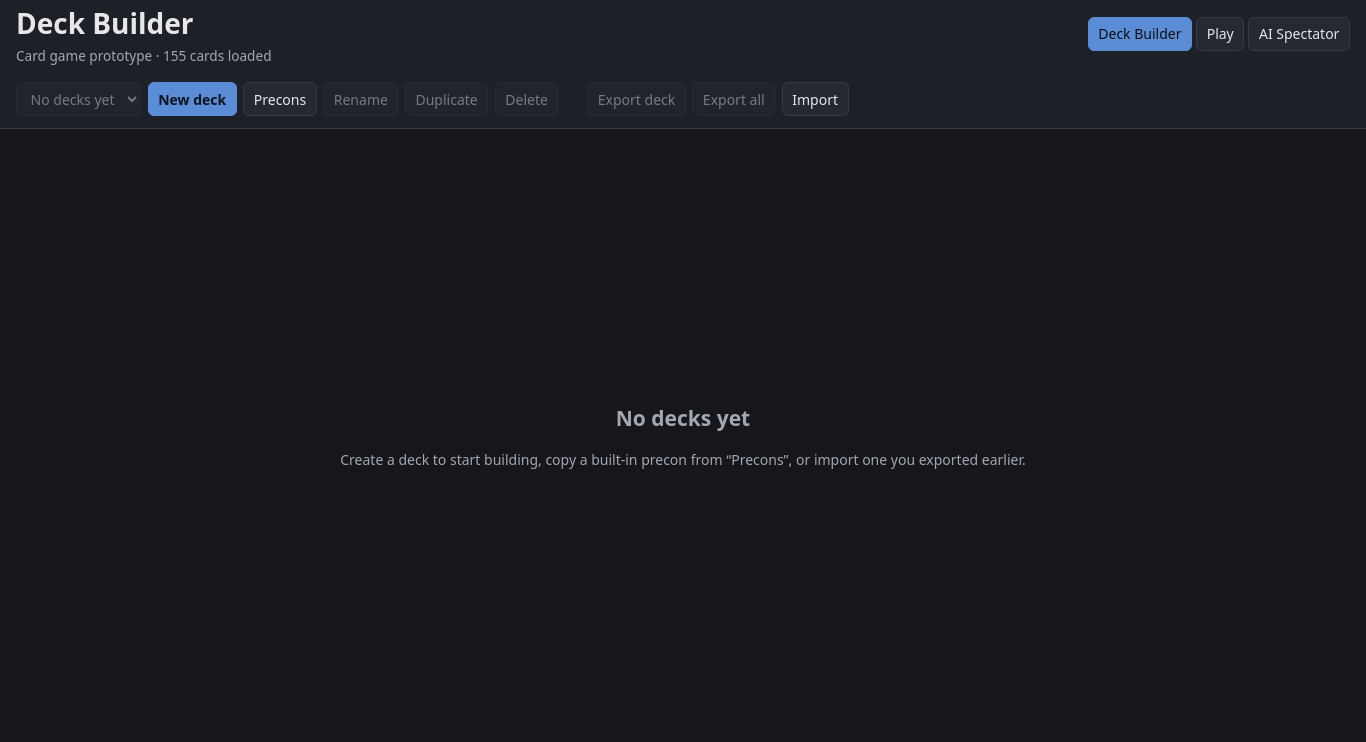
Test: the provenance of a deck the server built › says nothing until the server sends it
This screenshot has width=1366, height=742.
Click the button "Play" at point(1220, 34), box 1196,17 -> 1244,51
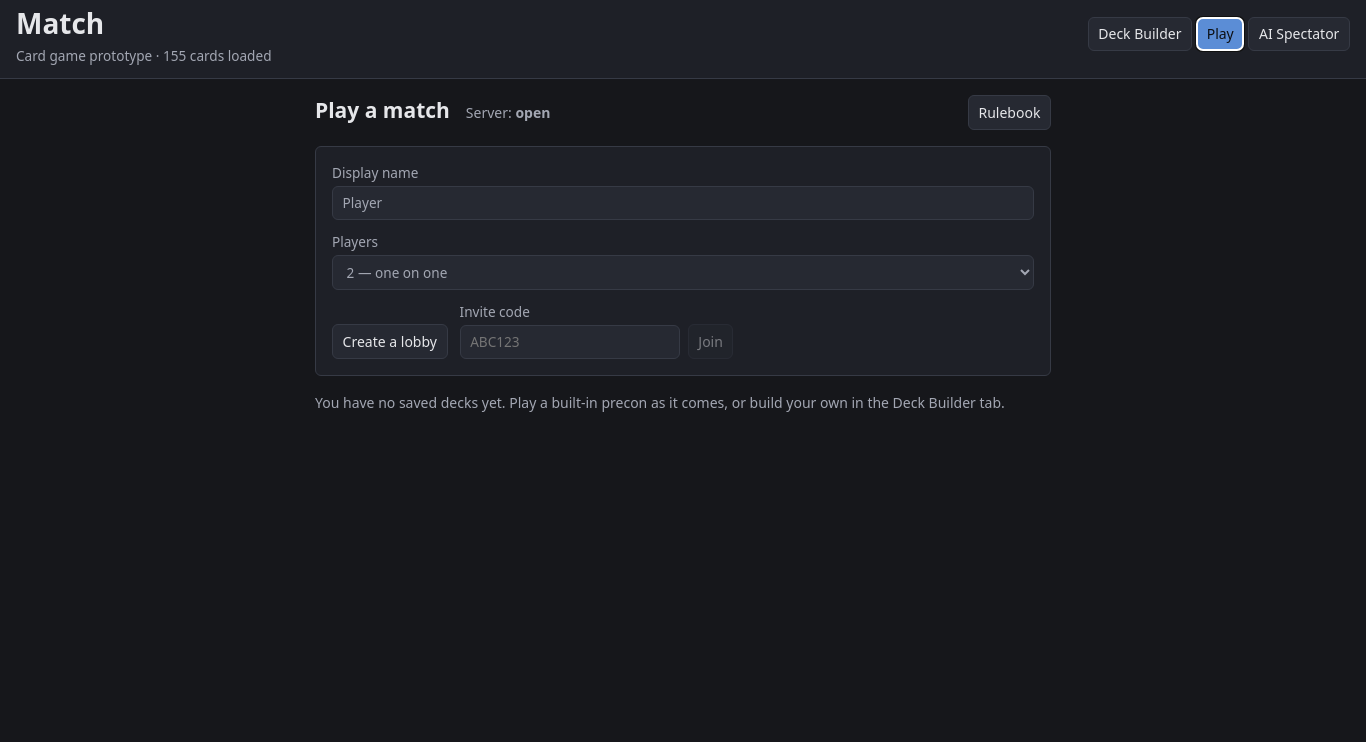
Click the button "Create a lobby" at point(390, 342), box 332,324 -> 448,359
(page scrolled)
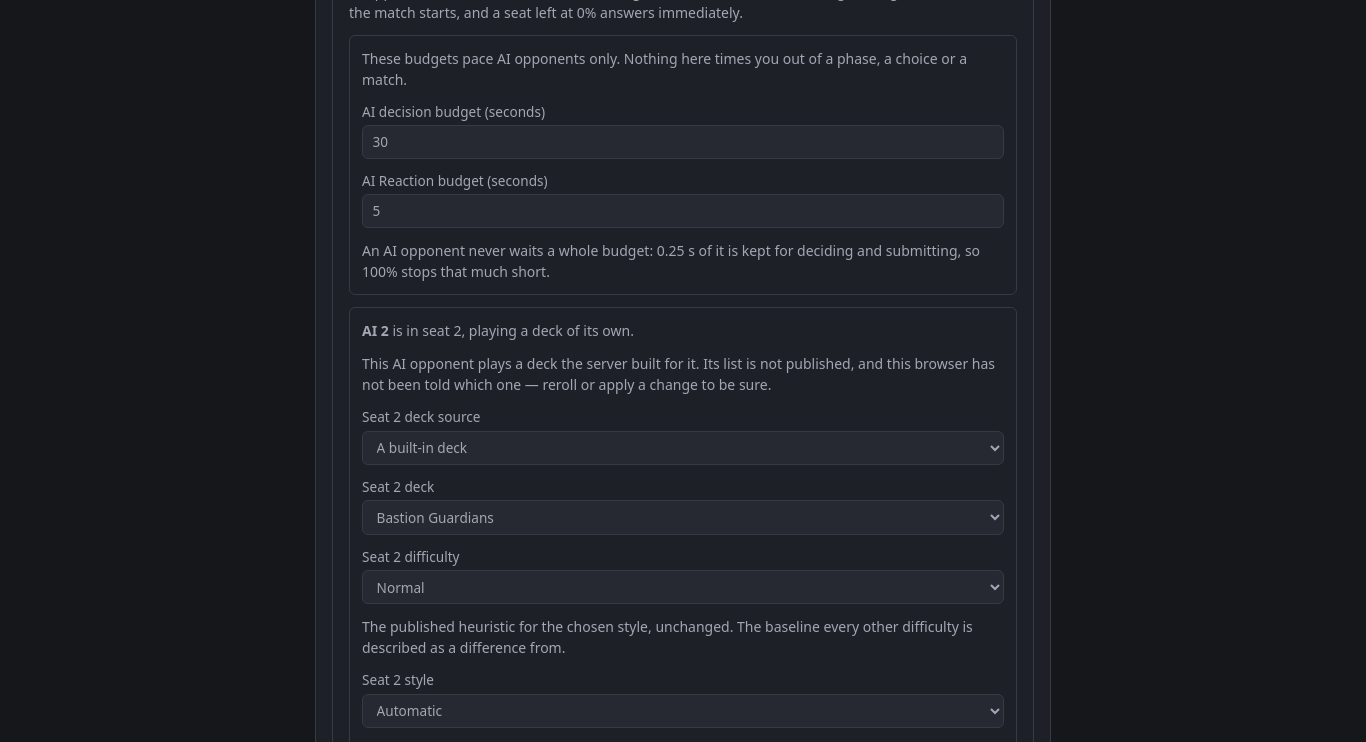
Now the text "this browser has not been told which one" is shown, box 362,354 -> 995,394
